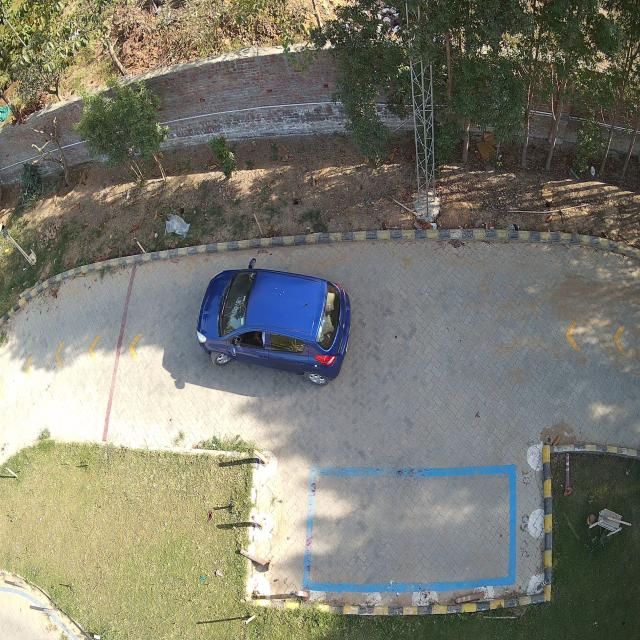car: (196, 260, 351, 385)
